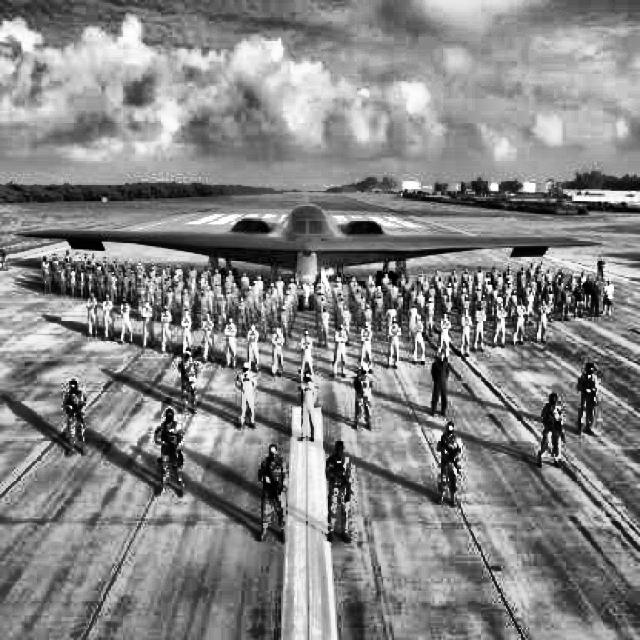B2: (12, 203, 603, 311)
